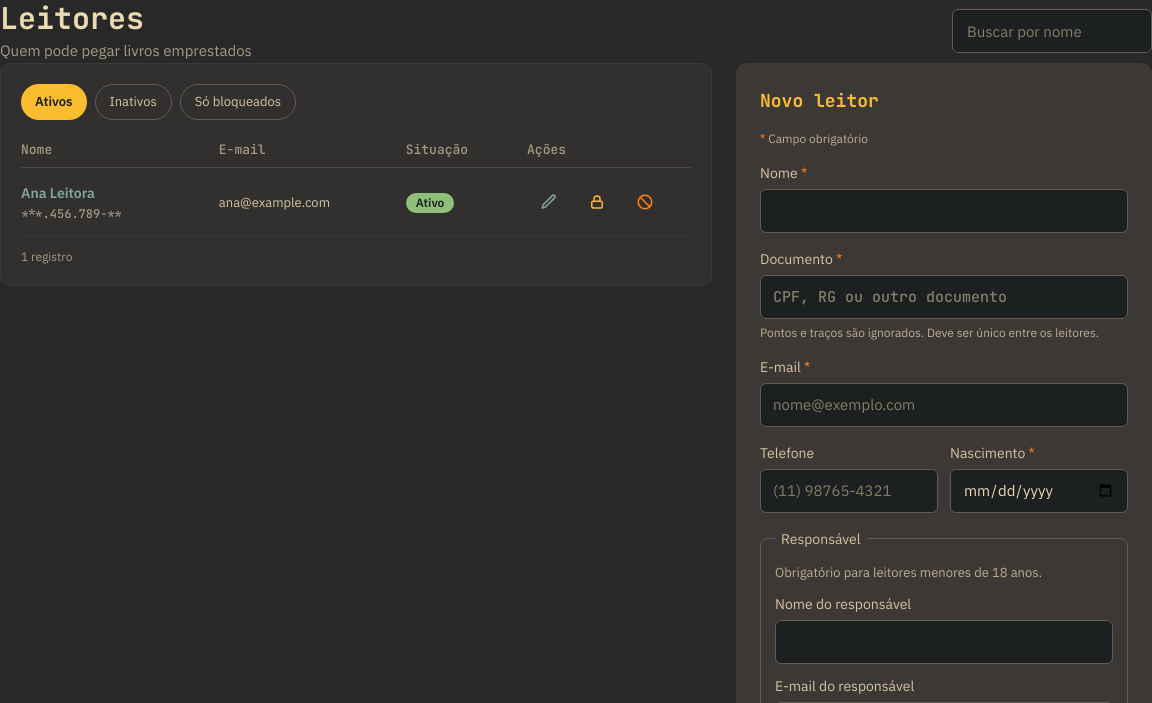
Test: textos do diálogo de inativação › leitor: não promete bloqueio por empréstimo, avisa do acesso e que não há reativação
Click the button named "Inativar Ana Leitora" at (645, 202), box [623,180,667,224]
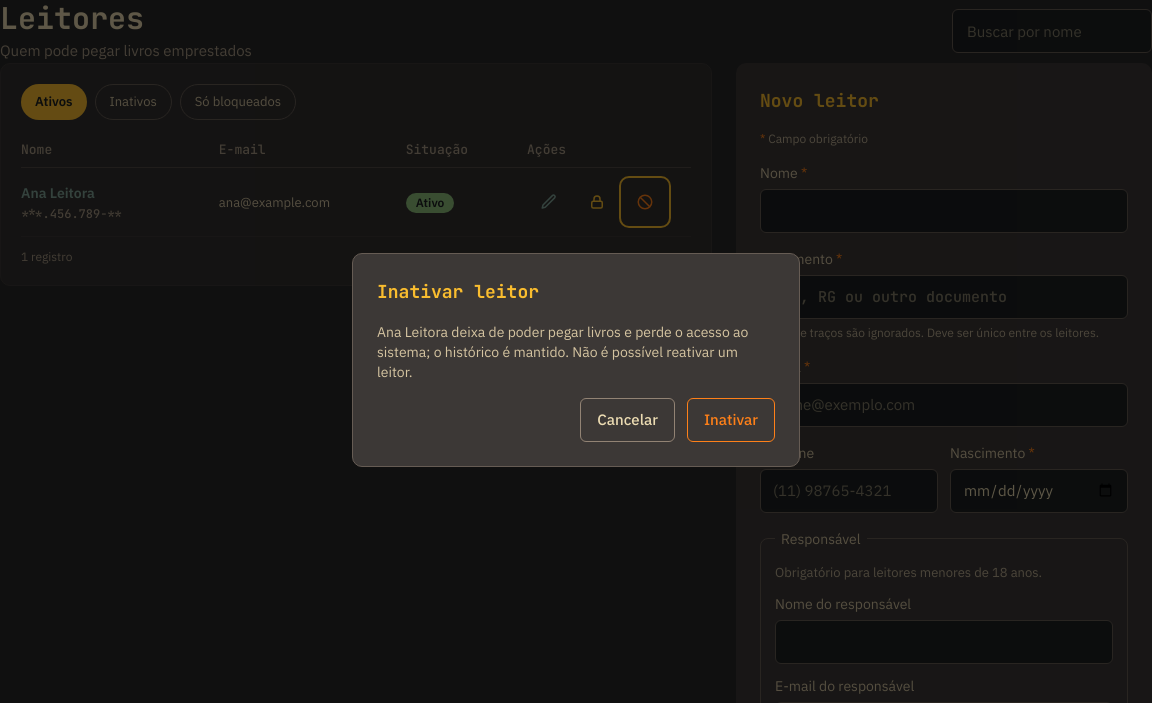
Expected: the dialog does not show "não podem ser inativados", [352,253,800,467]
Now the dialog shows "perde o acesso ao sistema", box [377,323,748,381]
Now the dialog shows "Não é possível reativar um leitor.", box [377,323,748,381]
